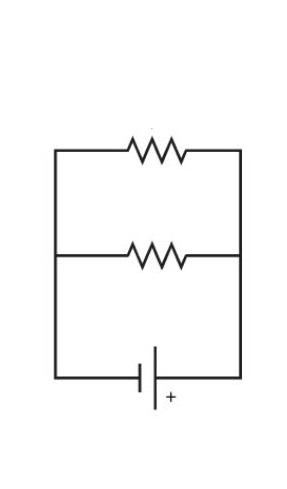resistor: (107, 123, 213, 181), (107, 224, 207, 283)
